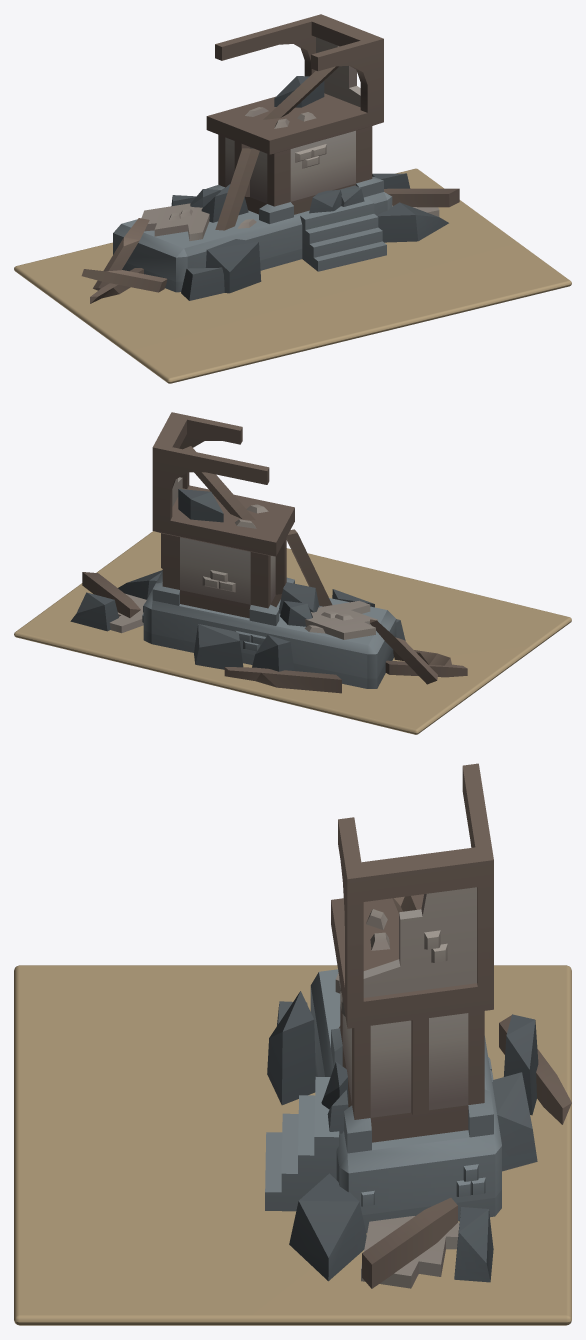
Rendered from stone-ruin-CrhCfdLM.glb.
3 views of the same model, one above another, from view 1: azimuth 30°, elevation 25°; view 2: azimuth 150°, elevation 25°; view 3: azimuth 270°, elevation 25° (orthographic). The views are drawn at different scales.
Parts seen in each view (by area): view 1: body_original_broken_timber, interior_floor; view 2: body_original_broken_timber, interior_floor; view 3: interior_floor, body_original_broken_timber.
Boxes of the visible parts, x1,y1,x2,y2 form: body_original_broken_timber: (81,14,459,303); interior_floor: (14,168,571,383); body_original_broken_timber: (70,412,467,693); interior_floor: (14,531,571,734); interior_floor: (14,965,571,1325); body_original_broken_timber: (265,763,571,1288).
Size of the model in its own units: 300 by 144 by 200.
Materials: 2 (1 with a texture image).
